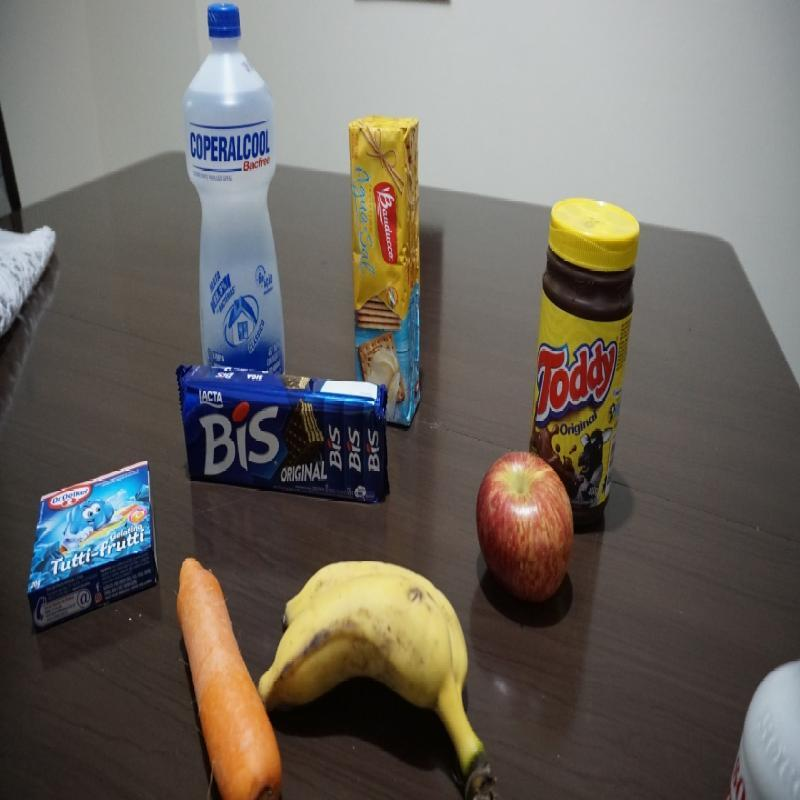Alcohol Bottle: (189, 2, 288, 356)
Apple: (477, 451, 572, 608)
Banana: (278, 553, 502, 794)
Carrot: (173, 551, 268, 796)
Chocolate Powder: (532, 188, 642, 453)
Cracker: (349, 116, 423, 362)
Gelatine: (26, 460, 160, 629)
